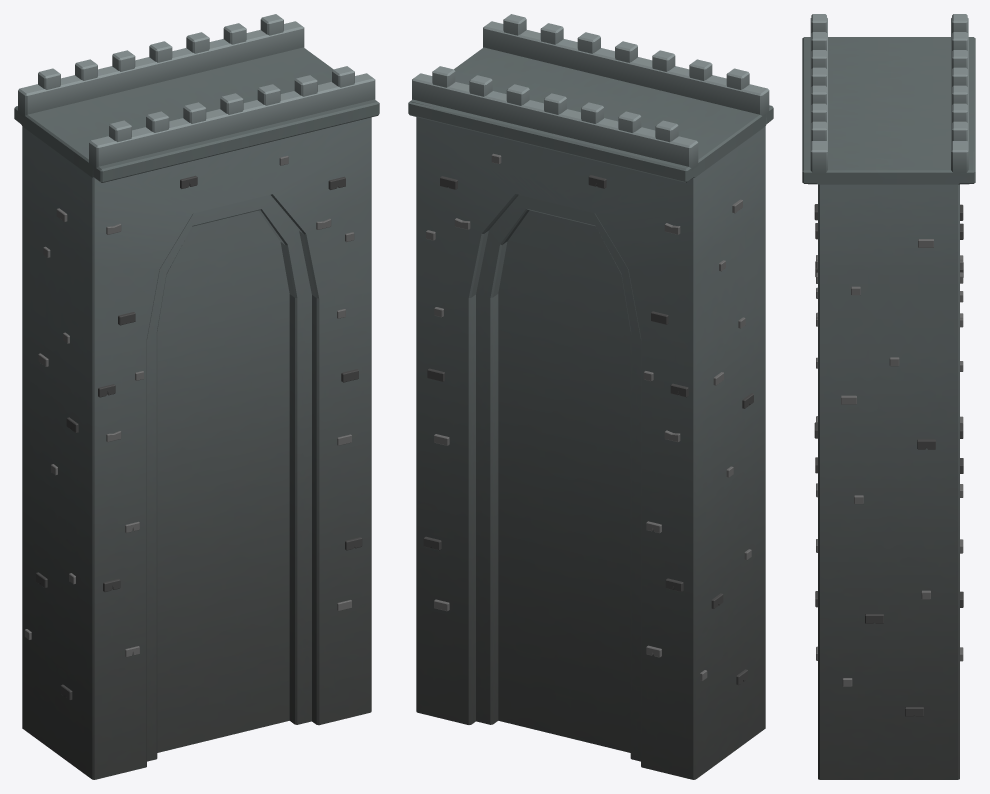
File: ZLP_Build_C_4.FBX
3 renders of one model, left to right at view 1: azimuth 30°, elevation 25°; view 2: azimuth 150°, elevation 25°; view 3: azimuth 270°, elevation 25°, orthographic.
Visible parts, largest first — view 1: ZLP_Build_C_4; view 2: ZLP_Build_C_4; view 3: ZLP_Build_C_4.
Part boxes in pixels (box(x1,y1,x2,y2)): ZLP_Build_C_4: box(14, 14, 379, 779); ZLP_Build_C_4: box(408, 14, 773, 779); ZLP_Build_C_4: box(802, 14, 975, 779).
Bounding box in the file's own units: 1458 × 3169 × 776.
